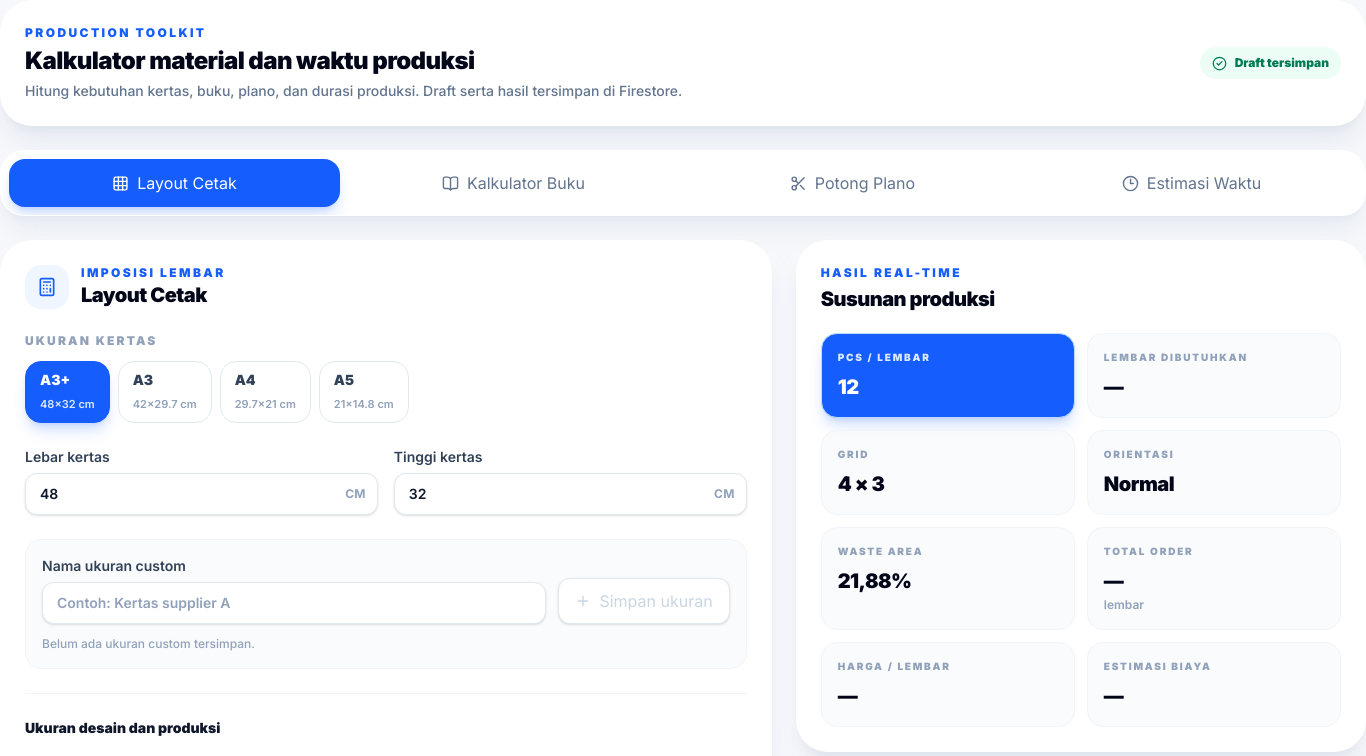
Test case: PaperCalculatorContainer › restores a Firestore draft and keeps every module directly accessible
Click the tab "Potong Plano".
click(852, 183)  # box left=687, top=159, right=1018, bottom=207
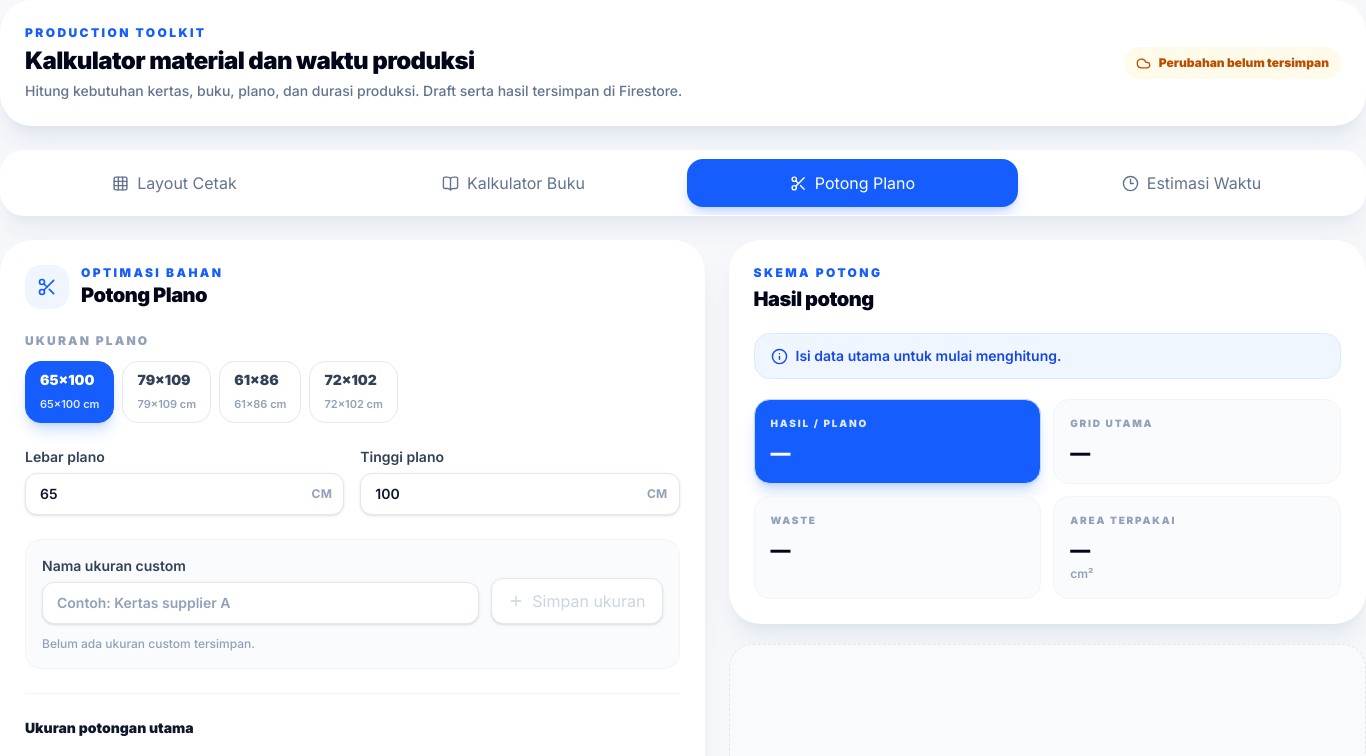
Expected: the heading "Potong Plano" is shown, left=81, top=281, right=223, bottom=309
